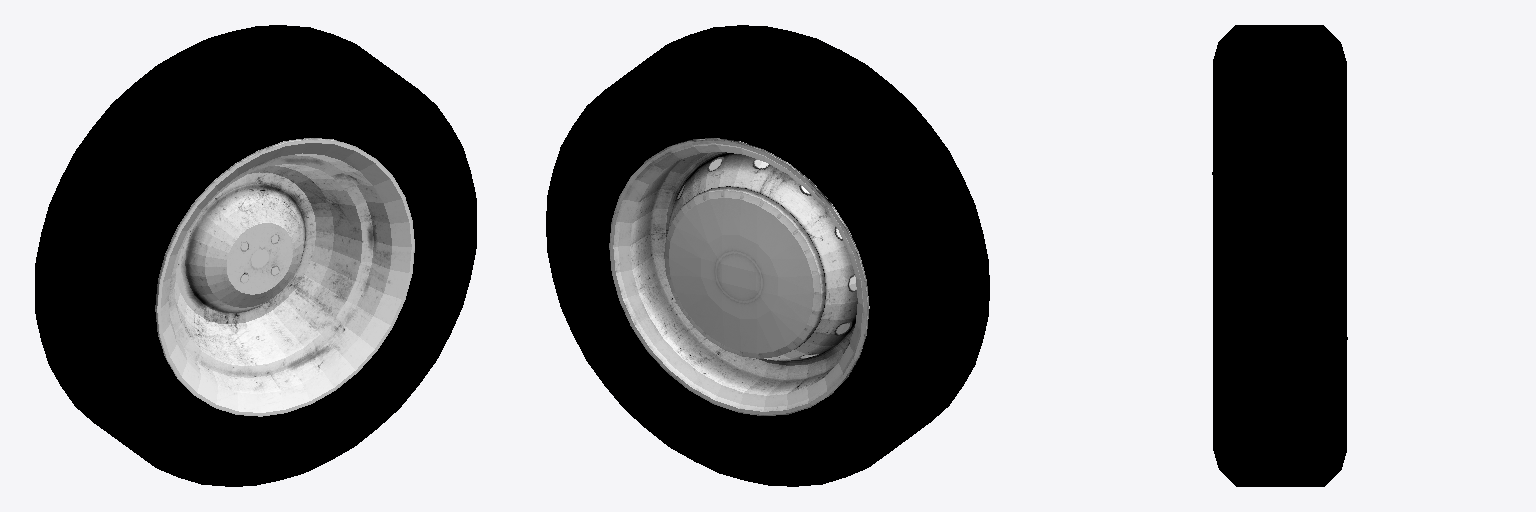
3 renders of one model, left to right at view 1: azimuth 30°, elevation 25°; view 2: azimuth 150°, elevation 25°; view 3: azimuth 270°, elevation 25°, orthographic.
Visible parts, largest first — view 1: LP.001_Mesh, pCylinder1_Mesh.001; view 2: LP.001_Mesh, pCylinder1_Mesh.001, pCylinder2_Mesh.003; view 3: LP.001_Mesh.
Boxes of the visible parts, box(x1,y1,x2,y2) form: LP.001_Mesh: box(35, 25, 476, 486); pCylinder1_Mesh.001: box(155, 138, 414, 416); LP.001_Mesh: box(546, 25, 989, 486); pCylinder1_Mesh.001: box(609, 138, 869, 415); pCylinder2_Mesh.003: box(664, 186, 825, 358); LP.001_Mesh: box(1212, 25, 1347, 486).
Bounding box in the file's own units: 1.46 × 1.46 × 0.4277.
1 materials, 1 textured.